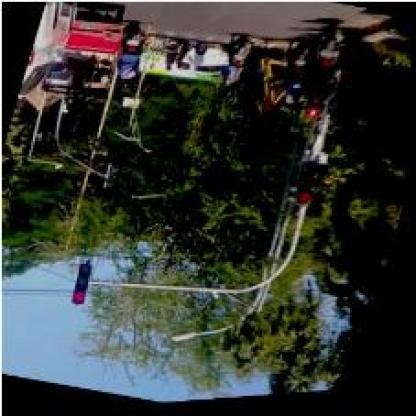red: (69, 264, 96, 308), (297, 166, 322, 212)
